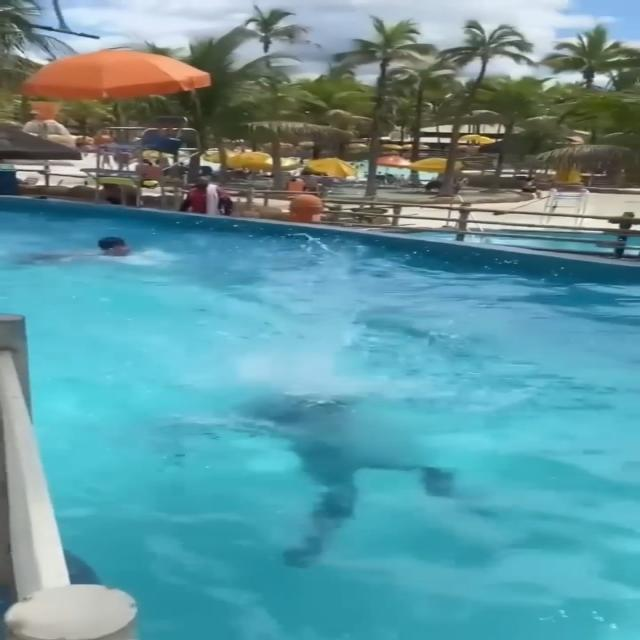Drowning: (206, 318, 513, 602)
Swimming: (5, 222, 178, 284)
